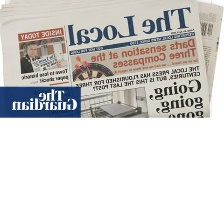news_paper: (0, 0, 223, 119)
